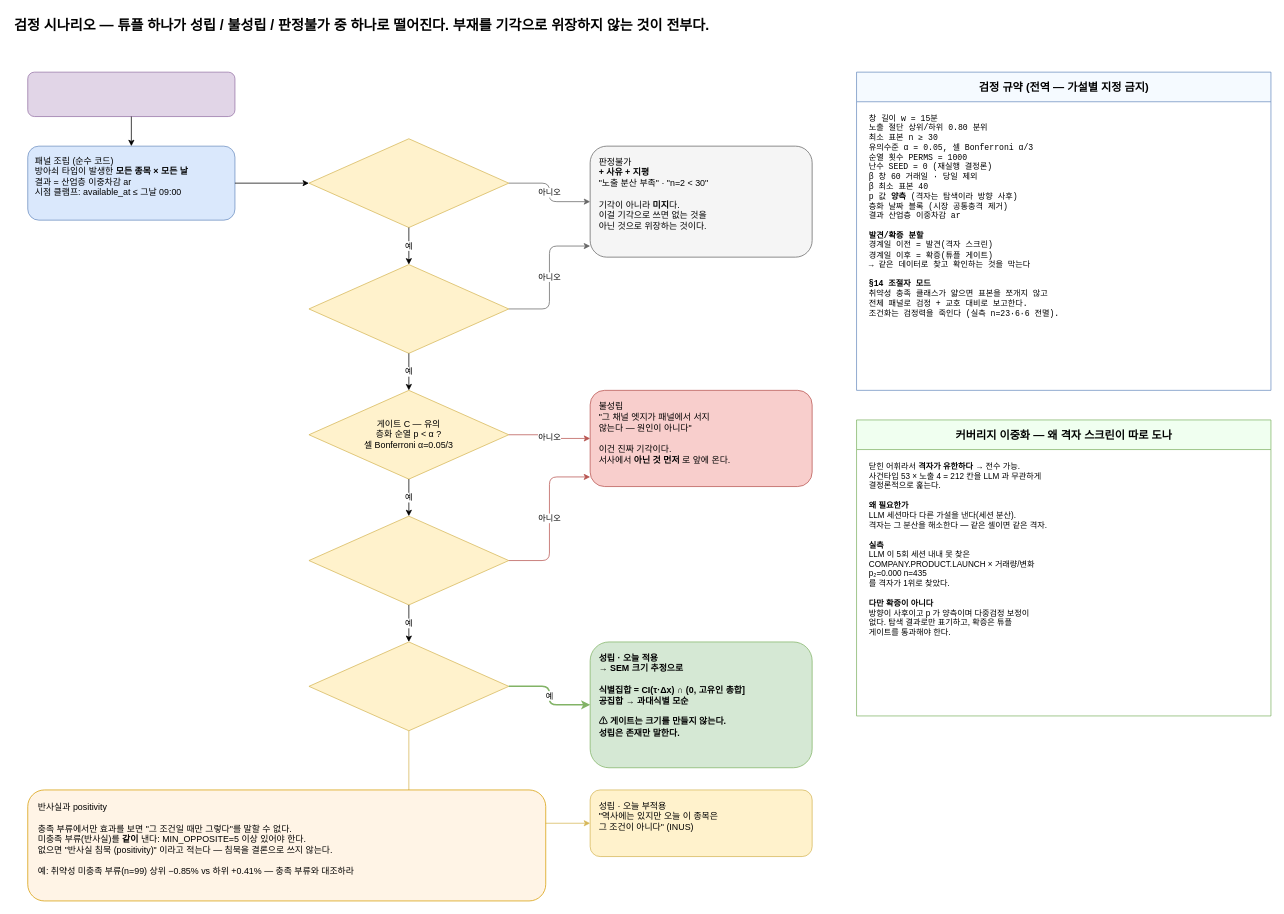
Image size: 1284x914. Some labels were removed from this diagram. Here are the shapes that lost their labels. From the top down, the centre of each, then its label:
(131,94): 튜플 하나 (채널, 방아쇠, 노출, 취약성, 결과, 부호)
(408,183): 게이트 A — 노출 분산 상위·하위 각 3개 이상 갈리나?
(408,308): 게이트 B — 표본 n ≥ 30 인가?
(408,560): 게이트 D — 방향 사전 지정 부호와 일치?
(408,686): 게이트 E — 오늘 적용 취약성 술어를 오늘 충족?
